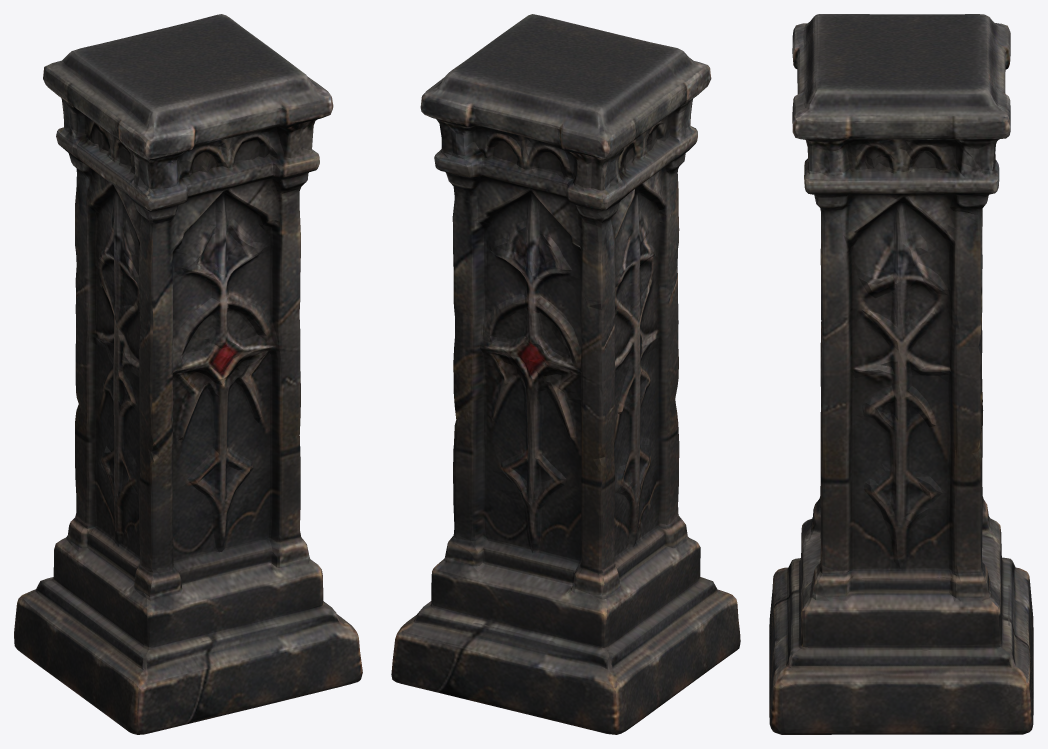
File: seal_pillar_1117.glb
3 renders of one model, left to right at view 1: azimuth 30°, elevation 25°; view 2: azimuth 150°, elevation 25°; view 3: azimuth 270°, elevation 25°, orthographic. The views are drawn at different scales.
Parts seen in each view (by area): view 1: tmpomawxz3u.ply; view 2: tmpomawxz3u.ply; view 3: tmpomawxz3u.ply.
Part boxes in pixels (box(x1,y1,x2,y2)): tmpomawxz3u.ply: box(14, 14, 362, 734); tmpomawxz3u.ply: box(391, 14, 740, 734); tmpomawxz3u.ply: box(769, 14, 1033, 734).
Bounding box in the file's own units: 0.4053 × 1 × 0.3825.
1 material, 1 textured.
